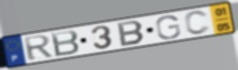3: (90, 25, 114, 51)
B: (49, 29, 81, 58), (116, 19, 147, 48)
C: (183, 9, 212, 36)
G: (154, 14, 183, 40)
R: (22, 34, 55, 62)
